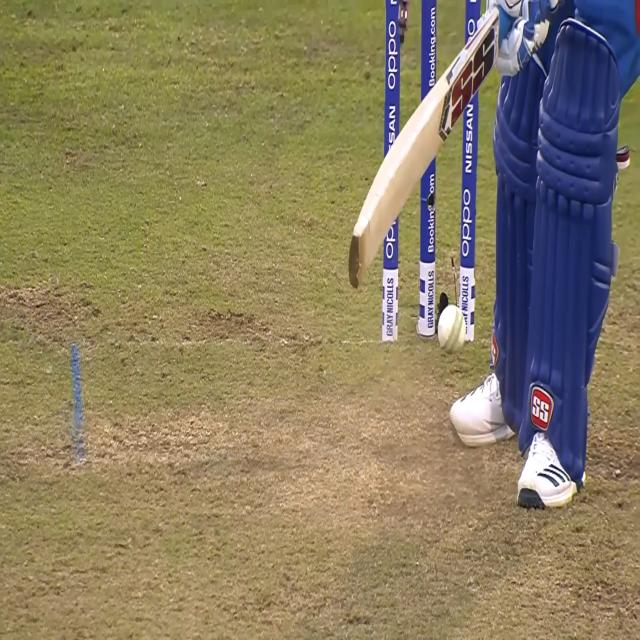ball: (437, 306, 467, 355)
